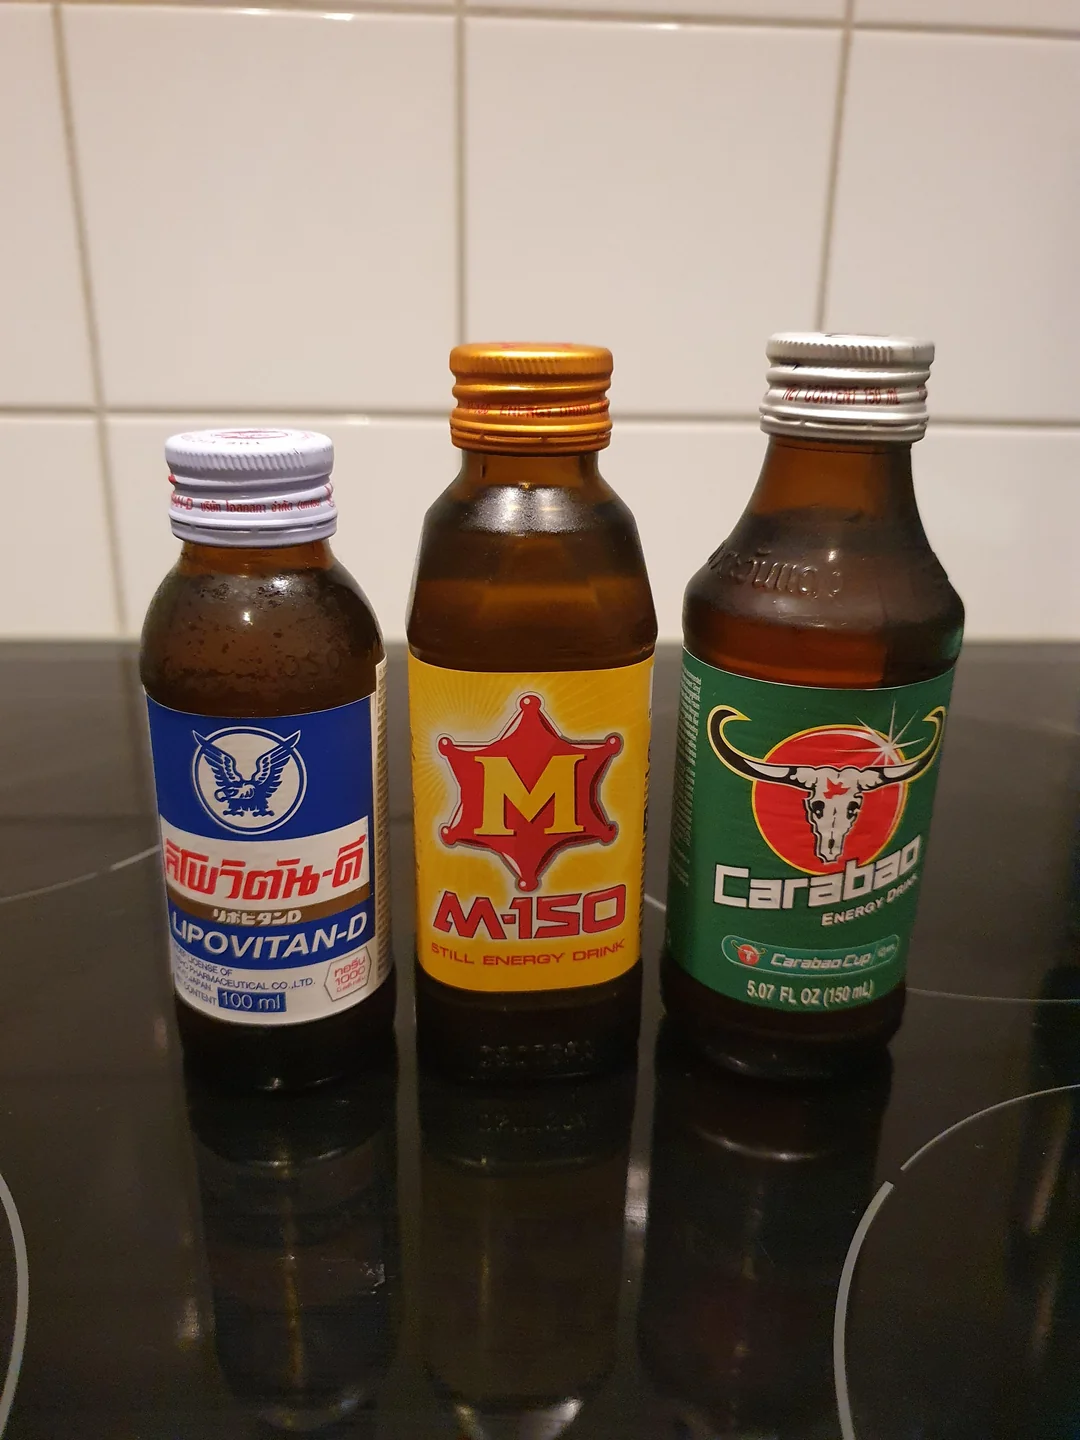glass_bottle: (655, 277, 973, 1085), (398, 321, 670, 1100), (127, 403, 400, 1104)
